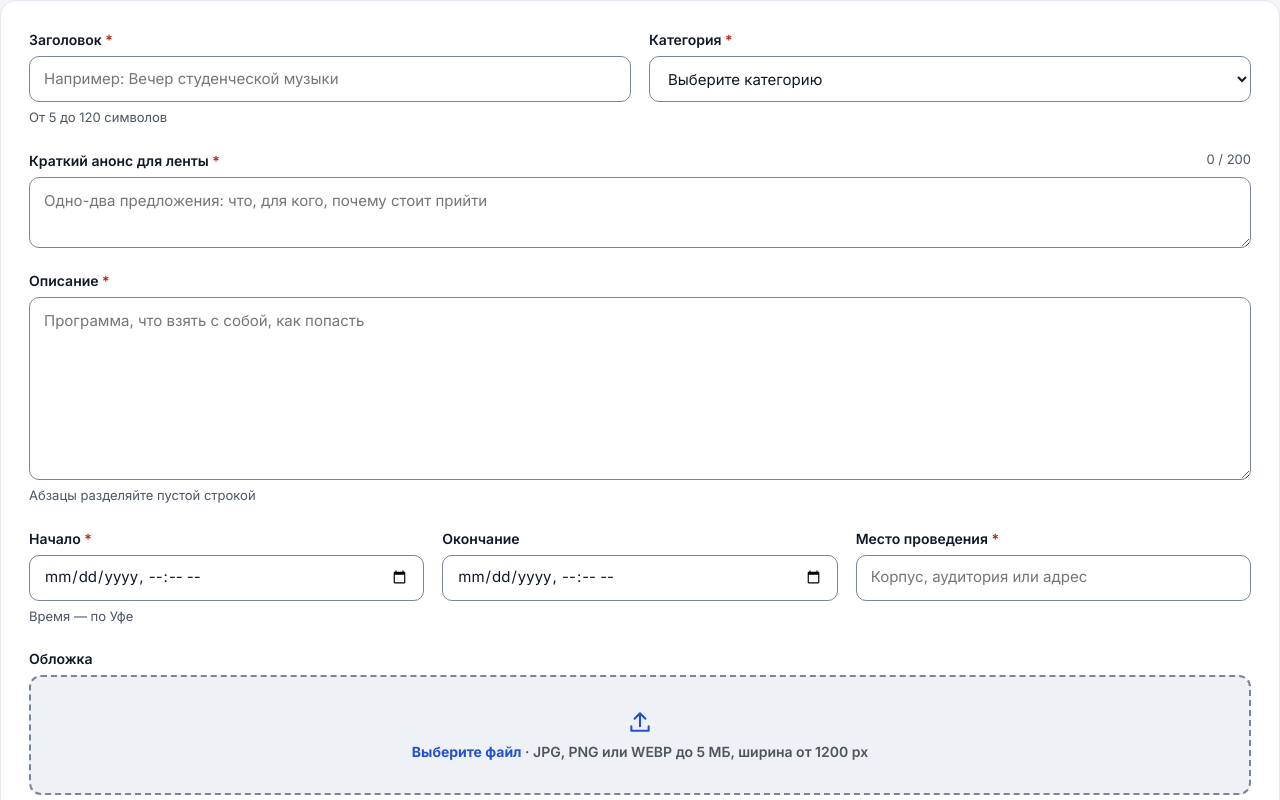
Test case: EventForm › labels every field and counts the summary
Expected: the field labelled "Заголовок" is shown, [29,56,631,102]
Expected: the dropdown labelled "Категория" is shown, [649,56,1251,102]
Type "Привет" into the text box labelled "Краткий анонс". click: (640, 212)
box: [29,176,1251,248]
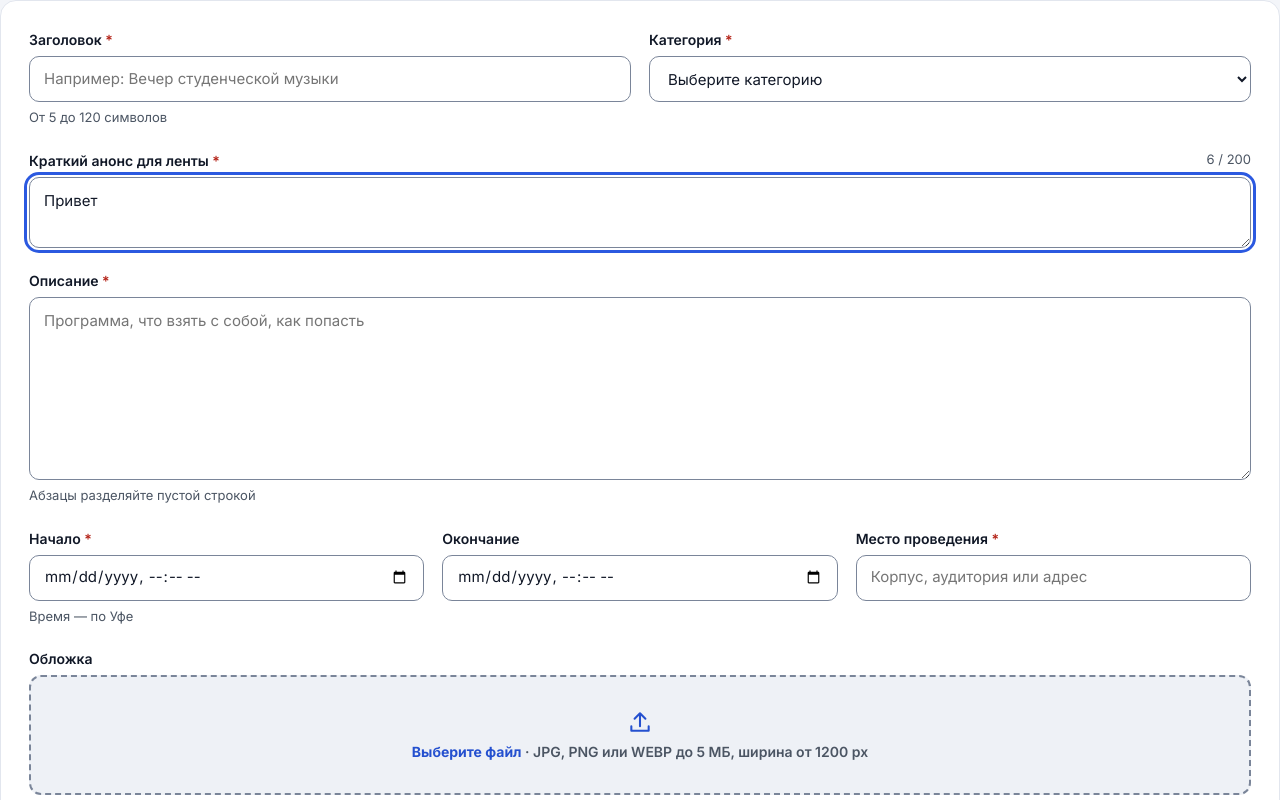
Expected: the text "6 / 200" is shown, [1207,150,1251,170]
